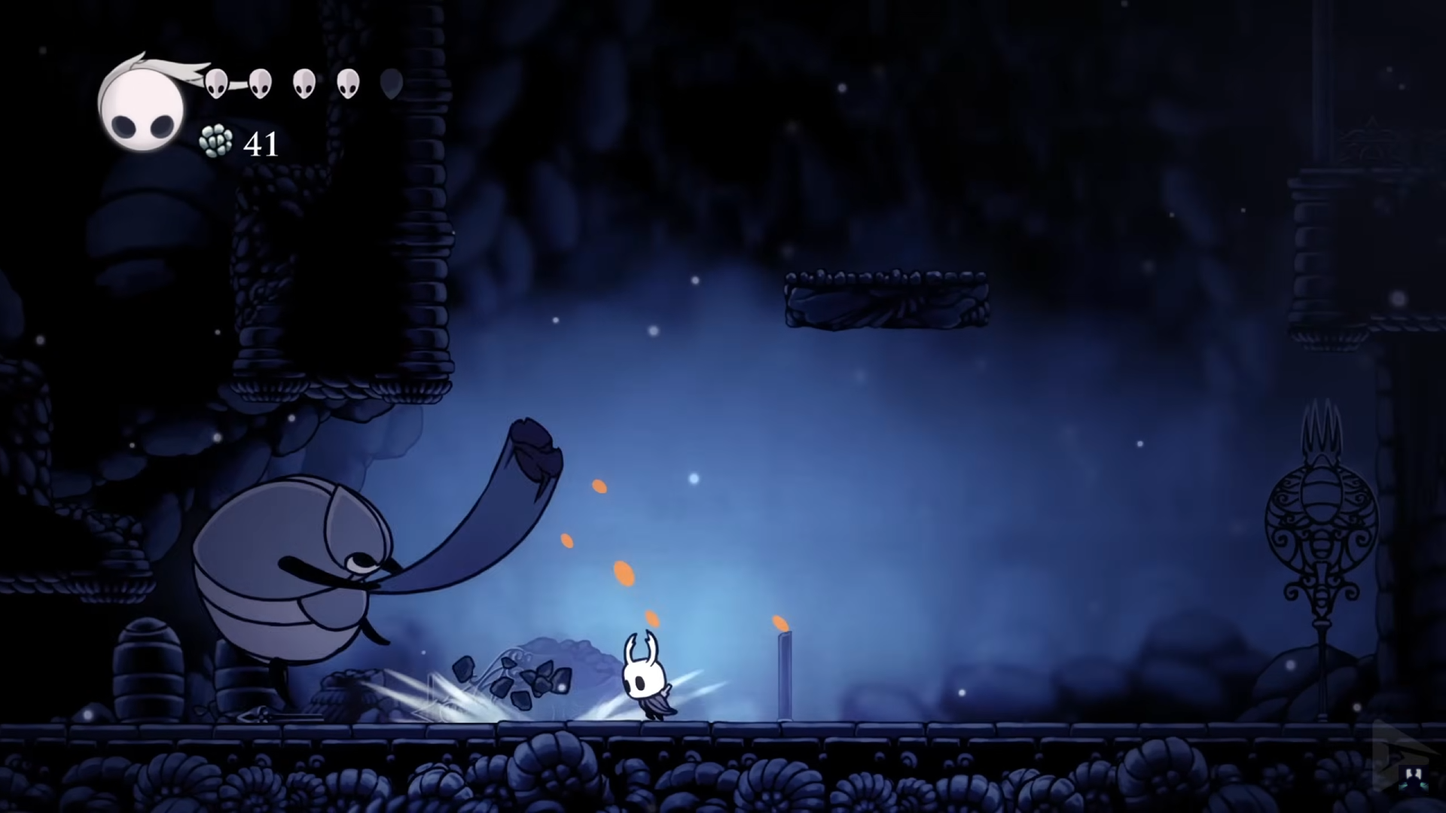HK: (606, 629, 684, 725)
